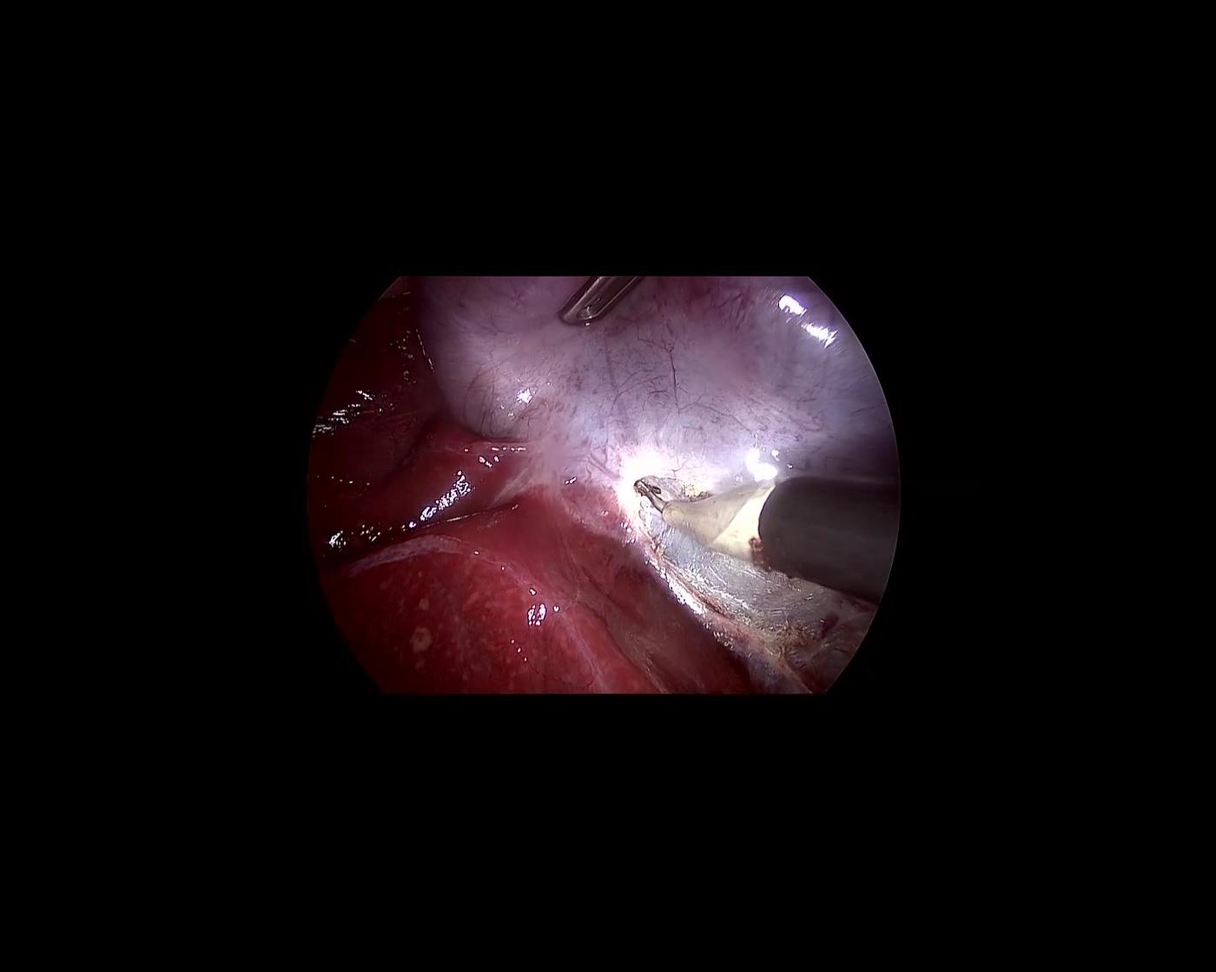Cautery: (621, 457, 901, 606)
Forceps: (552, 246, 648, 341)
Gallbladder: (415, 273, 901, 536)
Liver: (189, 280, 765, 879)
